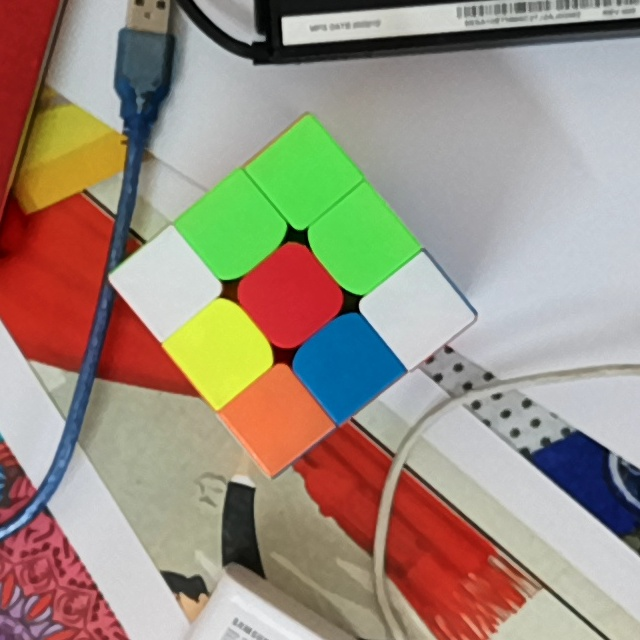tile: (333, 210, 393, 274), (261, 265, 322, 327), (275, 142, 333, 203), (318, 335, 377, 394), (387, 282, 447, 340), (204, 201, 261, 262), (138, 253, 194, 315), (246, 389, 305, 447), (192, 323, 250, 381)
